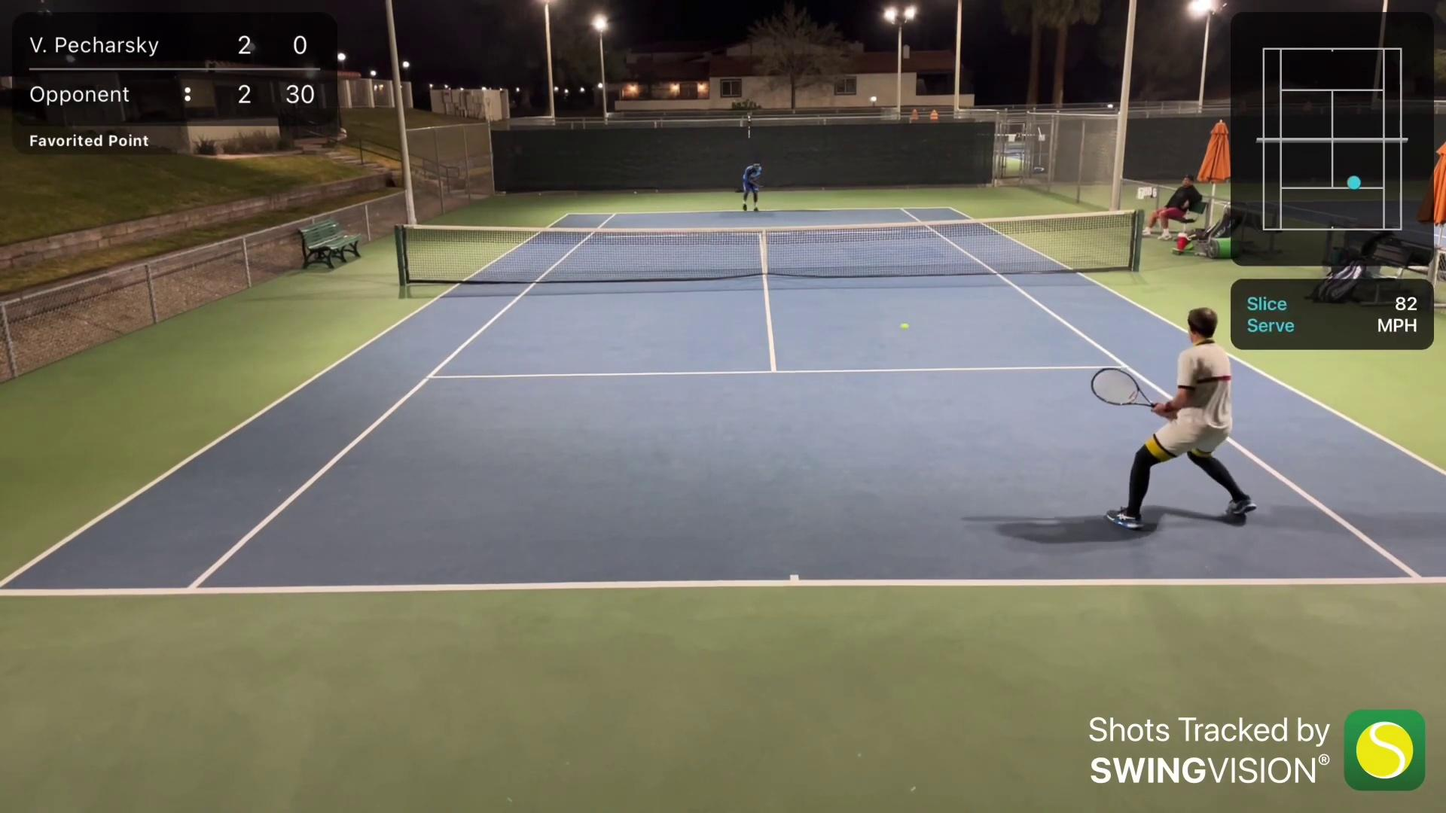ball: (898, 318, 911, 335)
